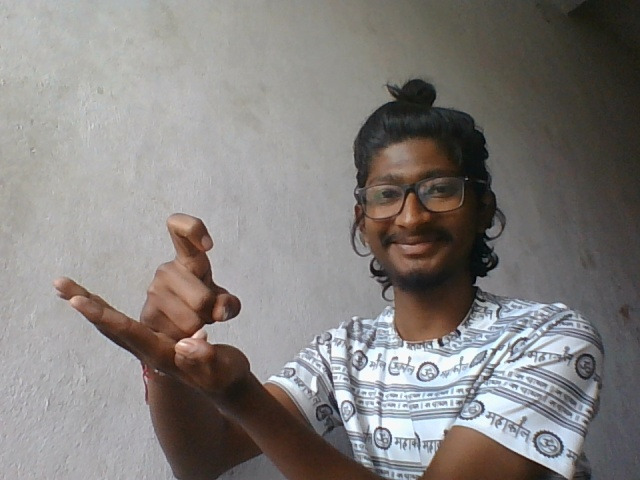No: (46, 206, 268, 399)
